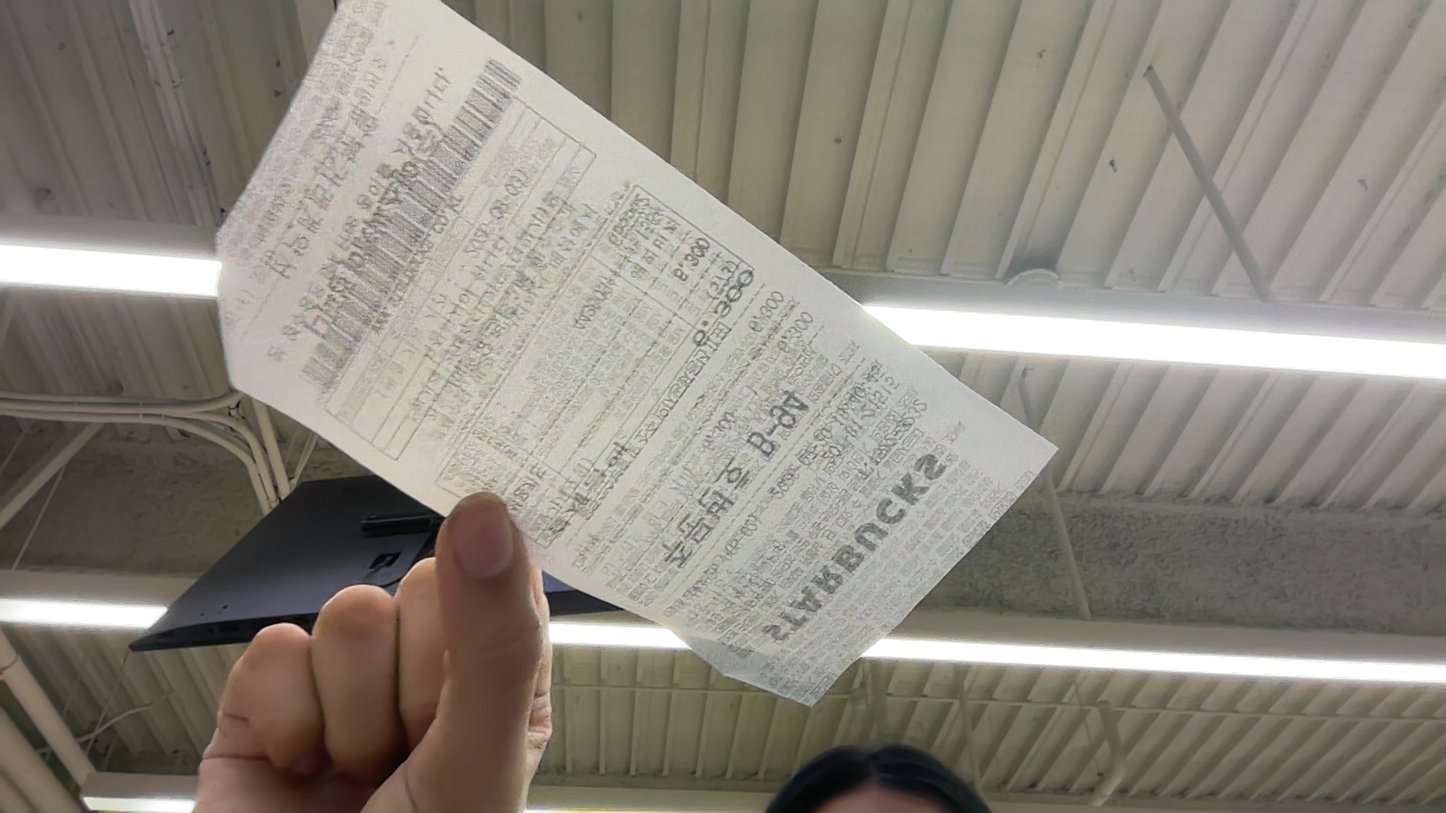Paper: (0, 400, 292, 614)
